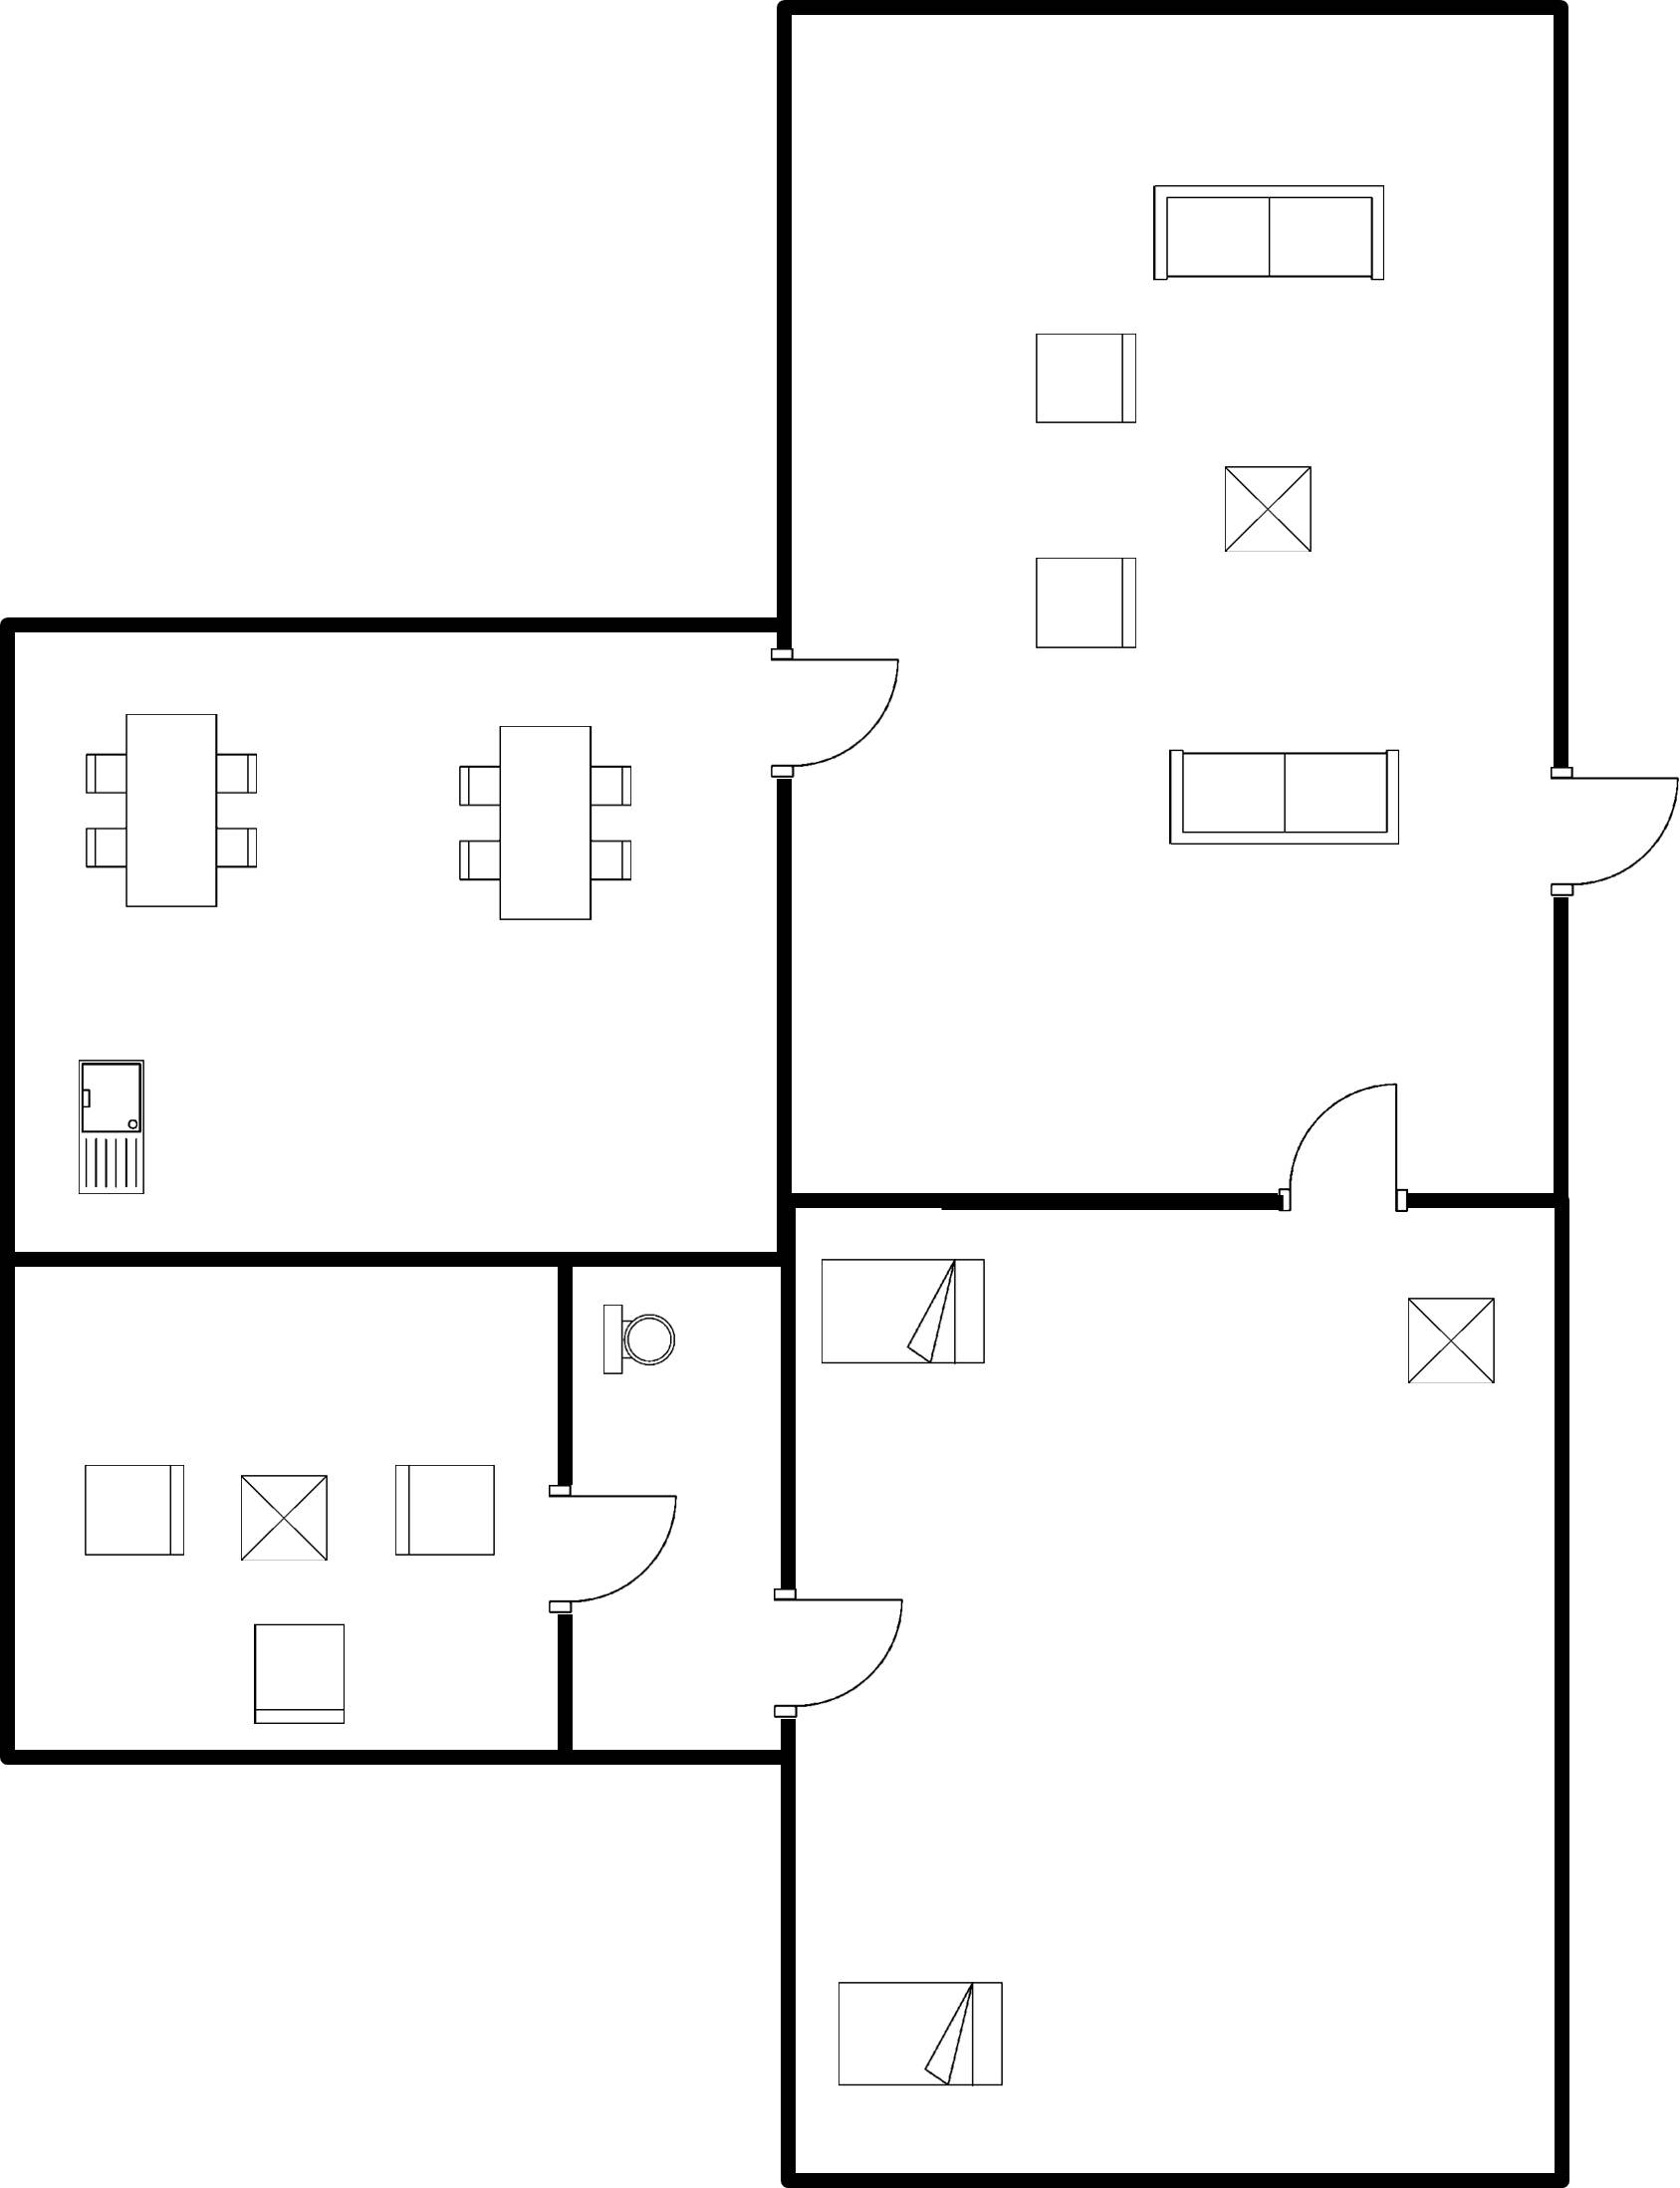bed: (815, 1964, 1018, 2102), (813, 1236, 1001, 1381)
coffee_table: (1390, 1284, 1523, 1405), (1209, 452, 1329, 563), (228, 1468, 347, 1568)
dining_table: (70, 699, 273, 926), (440, 706, 639, 937)
large_sofa: (1141, 173, 1397, 297), (1148, 736, 1412, 855)
sink: (59, 1044, 167, 1206)
small_sofa: (234, 1608, 368, 1739), (1016, 314, 1152, 439), (379, 1442, 505, 1574), (1020, 544, 1150, 664), (70, 1448, 197, 1568)
